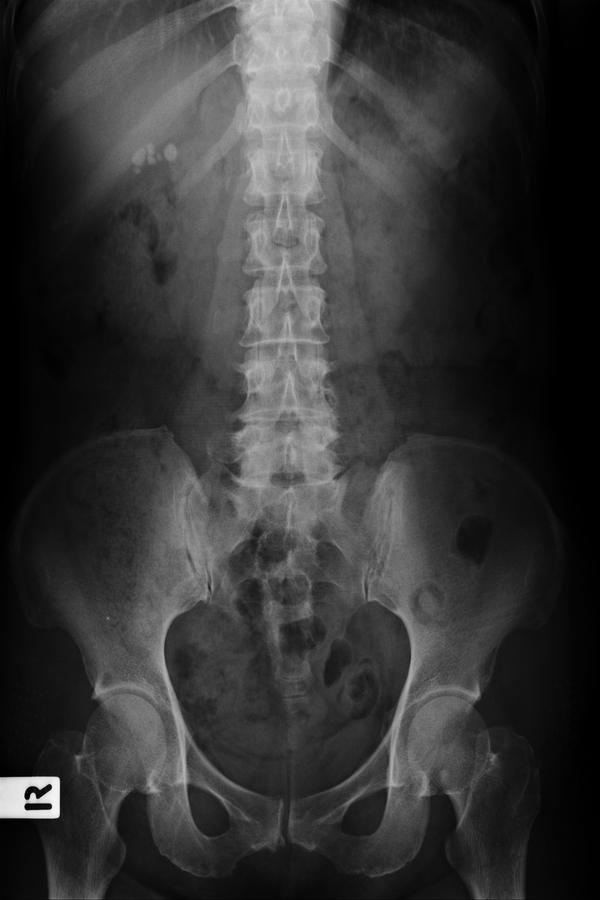not lumbar scoliosis: (231, 197, 346, 547)
